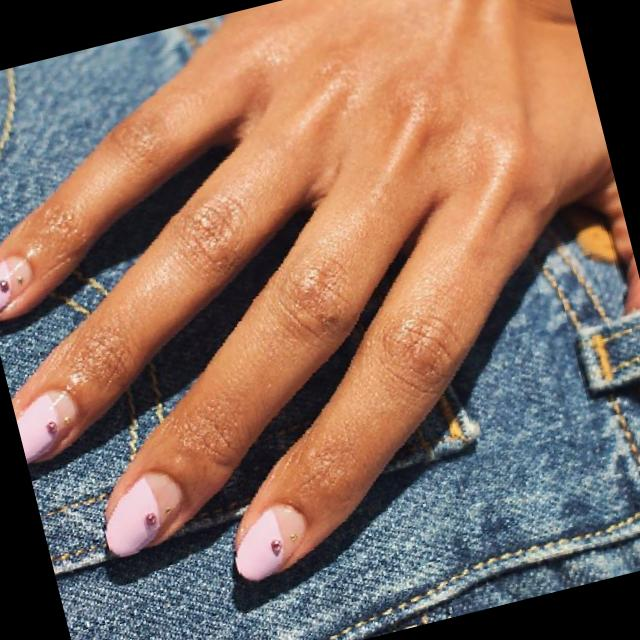Nail: (107, 472, 181, 556), (236, 504, 302, 581), (15, 391, 75, 463), (0, 258, 30, 309)
